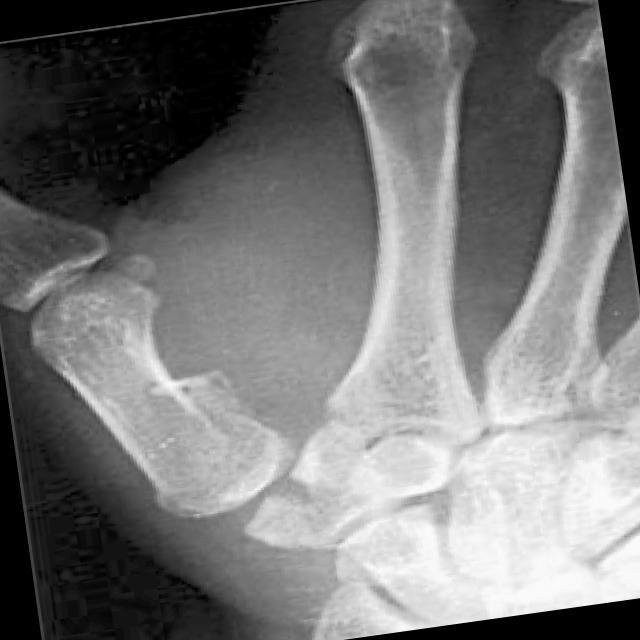Comminuted Fracture: (149, 461, 306, 539), (86, 215, 188, 301)
